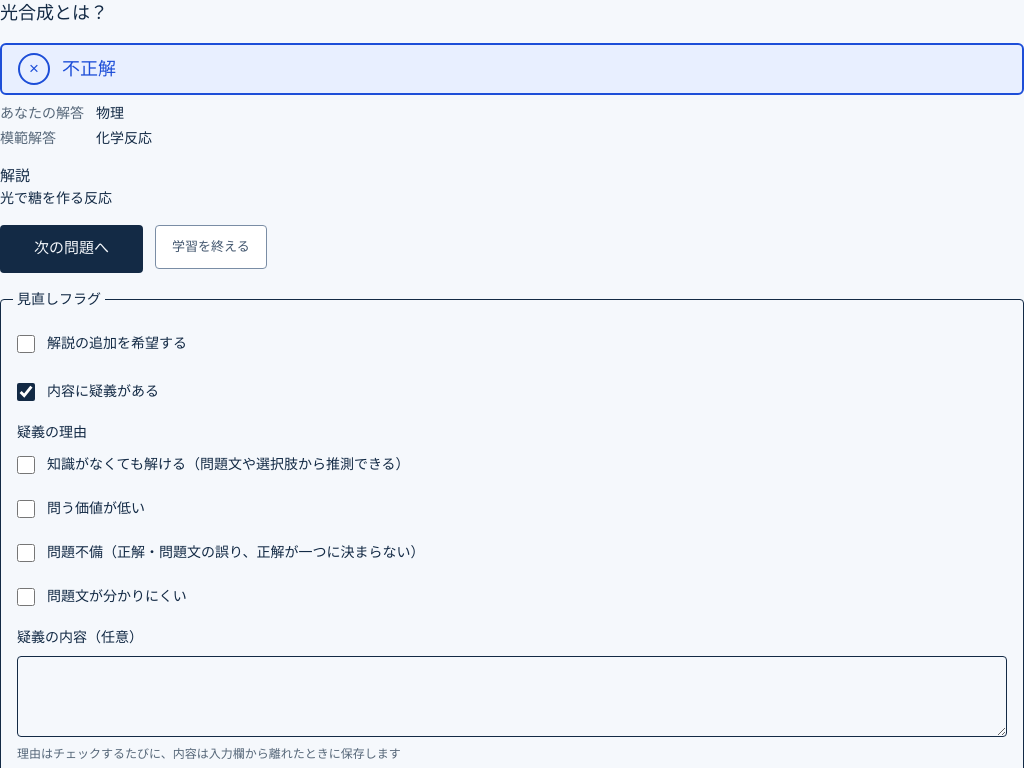
Test: QuestionResultPanel › 疑義の理由の保存失敗では選択を保持し、再保存で同じ内容を送る
The width and height of the screenshot is (1024, 768).
Click the checkbox labelled "問う価値が低い": [26, 508] box [17,500,35,518]
(page scrolled)
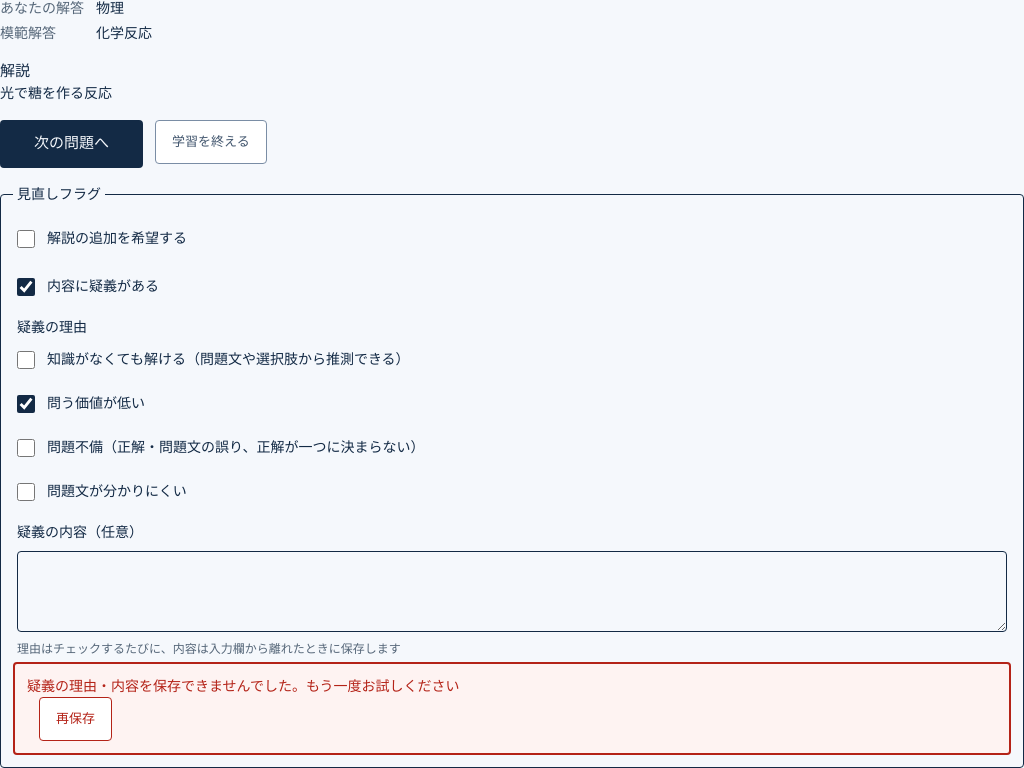
Check: the checkbox labelled "問う価値が低い" is checked, box [17,394,35,412]
Check: the message that starts with "疑義の理由・内容" shows "もう一度", box [139,678,460,694]
Click the button "再保存": [76, 718] box [39,696,112,740]
(page scrolled)
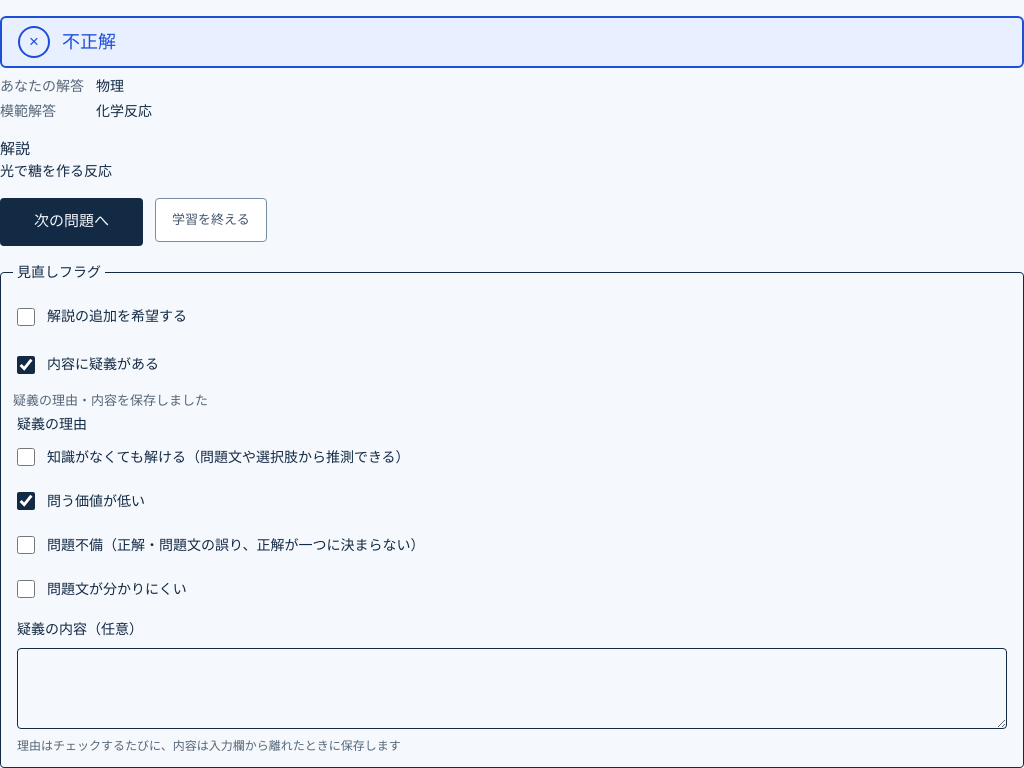
Check: the text "疑義の理由・内容を保存しました" is shown, box [13,392,208,408]
